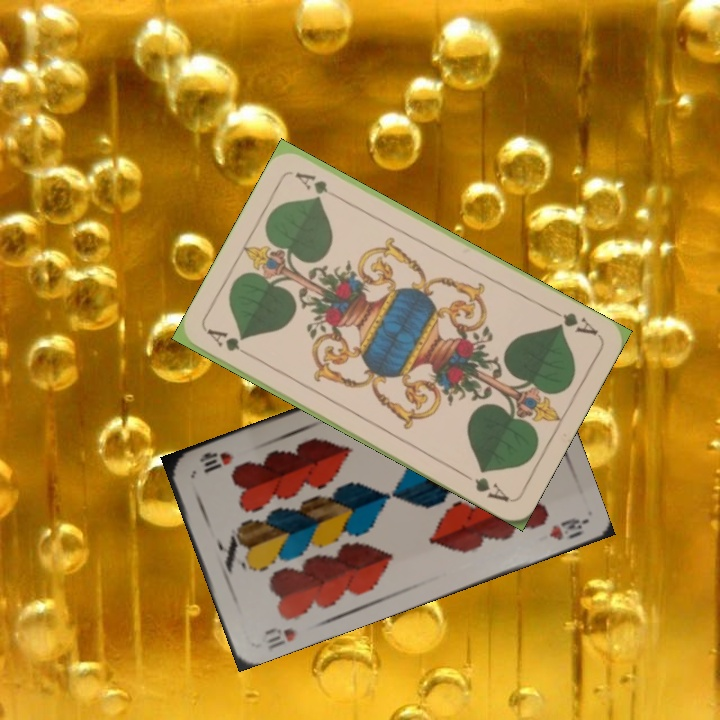GA: (203, 324, 258, 362), (545, 304, 601, 339)
H10: (260, 623, 298, 652)
